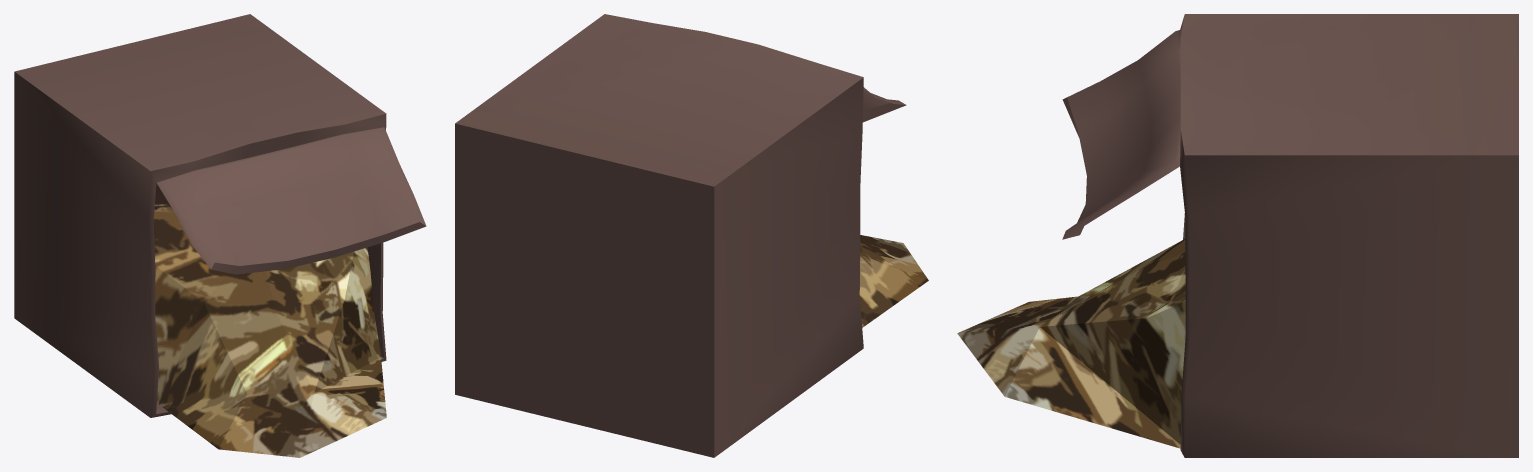
File: Trash_012.glb
The picture shows the model from 3 angles, left to right: view 1: azimuth 30°, elevation 25°; view 2: azimuth 150°, elevation 25°; view 3: azimuth 270°, elevation 25°; orthographic projection. The views are drawn at different scales.
Parts seen in each view (by area): view 1: Trash_012; view 2: Trash_012; view 3: Trash_012.
Boxes of the visible parts, x1,y1,x2,y2 form: Trash_012: (14, 14, 426, 457); Trash_012: (455, 14, 928, 457); Trash_012: (957, 14, 1518, 457).
Size of the model in its own units: 0.4024 by 0.4156 by 0.6725.
2 materials, 2 textured.
